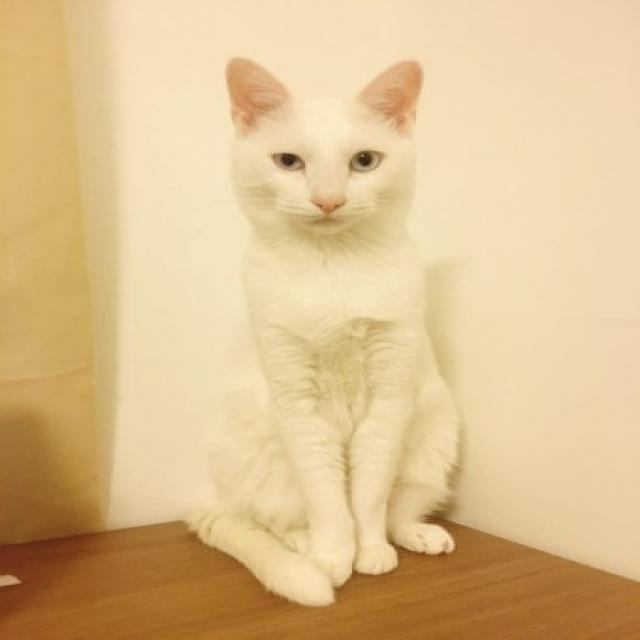cat: (174, 55, 488, 609)
